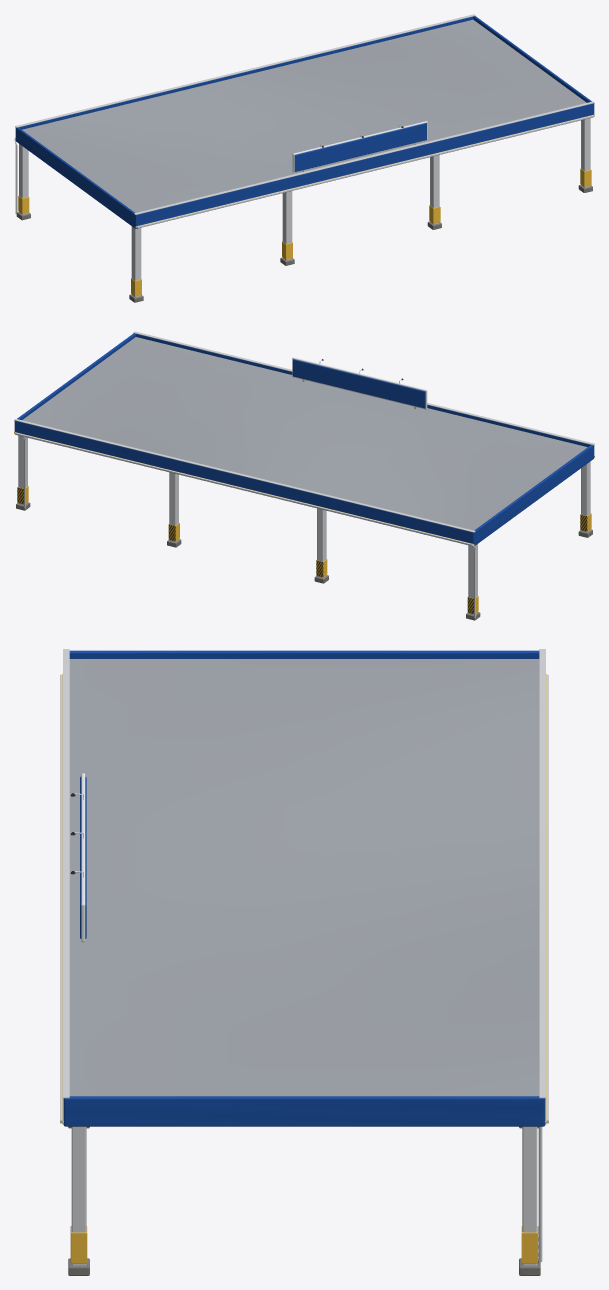
The model's file is SW_Canopy.glb.
The picture shows the model from 3 angles, top to bottom: view 1: azimuth 30°, elevation 25°; view 2: azimuth 150°, elevation 25°; view 3: azimuth 270°, elevation 25°; orthographic projection. The views are drawn at different scales.
Visible parts, largest first — view 1: Roof, Fascia, Pillars, RoofSign, Gutters; view 2: Roof, Fascia, Pillars, RoofSign, Gutters; view 3: Roof, Fascia, Pillars, Gutters, RoofSign.
Boxes of the visible parts, x1=… form: Roof: x1=22, y1=19, x2=586, y2=212; Fascia: x1=15, y1=14, x2=594, y2=228; Pillars: x1=16, y1=118, x2=592, y2=302; RoofSign: x1=292, y1=121, x2=427, y2=172; Gutters: x1=14, y1=115, x2=594, y2=228; Roof: x1=22, y1=337, x2=587, y2=530; Fascia: x1=14, y1=331, x2=594, y2=546; Pillars: x1=16, y1=435, x2=592, y2=620; RoofSign: x1=292, y1=357, x2=427, y2=409; Gutters: x1=14, y1=432, x2=475, y2=618; Roof: x1=69, y1=659, x2=539, y2=1096; Fascia: x1=62, y1=649, x2=546, y2=1126; Pillars: x1=68, y1=1126, x2=540, y2=1275; Gutters: x1=60, y1=674, x2=548, y2=1261; RoofSign: x1=70, y1=773, x2=86, y2=942.
Bounding box in the file's own units: 24.97 × 5.71 × 11.5.
Materials: 2 (1 with a texture image).
